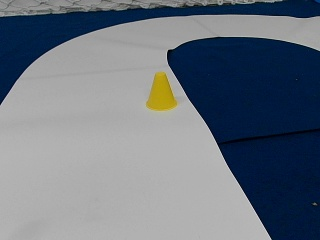cone: (146, 72, 176, 110)
